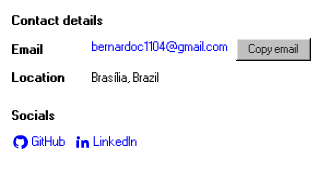
Test: ContactApp › falls back to execCommand when clipboard permission is denied
This screenshot has width=332, height=172.
Click the button "Copy email". click: x=274, y=50
box: [236,38,311,61]
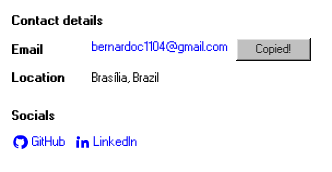
Expected: the button "Copied!" is shown, [236,38,311,61]
